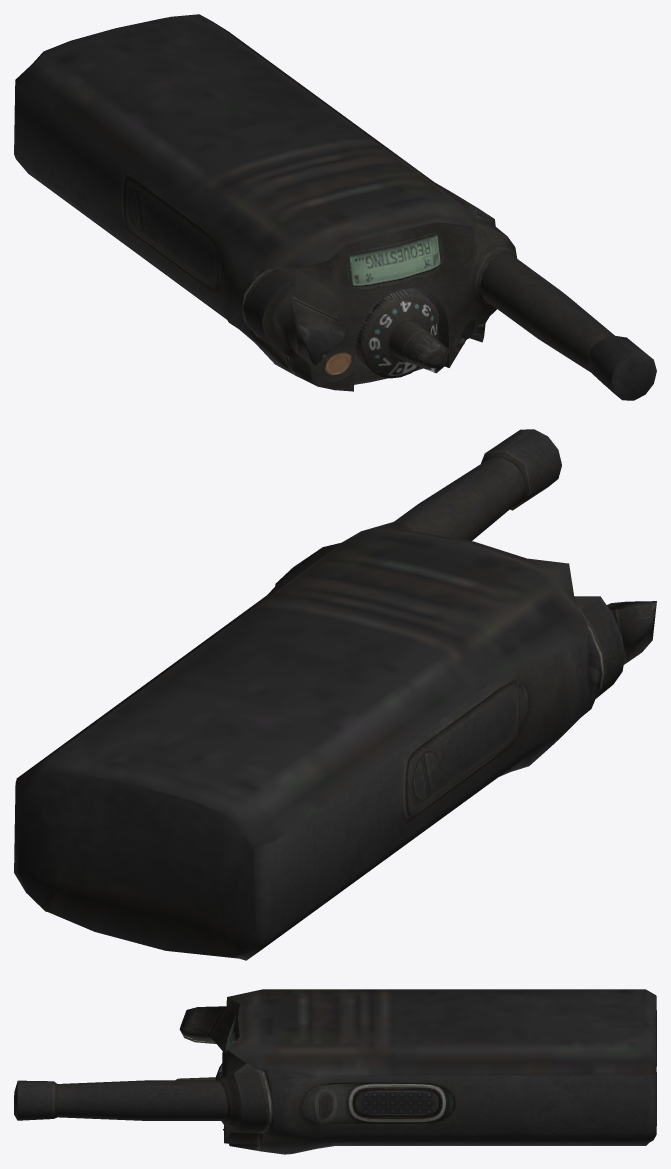
Rendered from t6_wpn_uav_radio_world_LOD1.obj.
3 renders of one model, top to bottom at view 1: azimuth 30°, elevation 25°; view 2: azimuth 150°, elevation 25°; view 3: azimuth 270°, elevation 25°, orthographic. The views are drawn at different scales.
Visible parts, largest first — view 1: mtl_t6_wpn_uav_radio; view 2: mtl_t6_wpn_uav_radio; view 3: mtl_t6_wpn_uav_radio.
Boxes of the visible parts, x1,y1,x2,y2 form: mtl_t6_wpn_uav_radio: [14, 14, 656, 400]; mtl_t6_wpn_uav_radio: [14, 429, 656, 960]; mtl_t6_wpn_uav_radio: [14, 989, 656, 1154].
Bounding box in the file's own units: 9.54 × 5.6 × 26.82.
